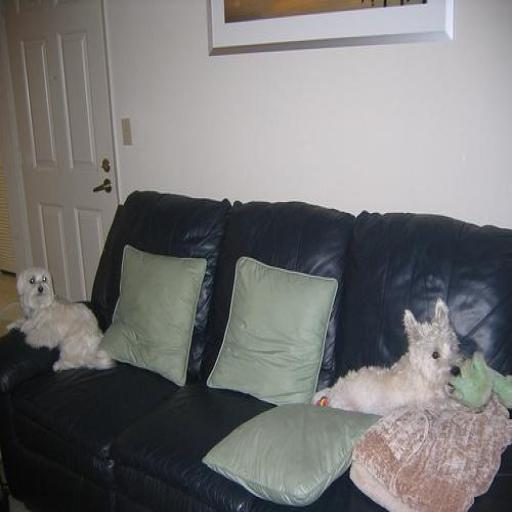dog_face: (398, 298, 463, 388), (15, 265, 54, 318)
